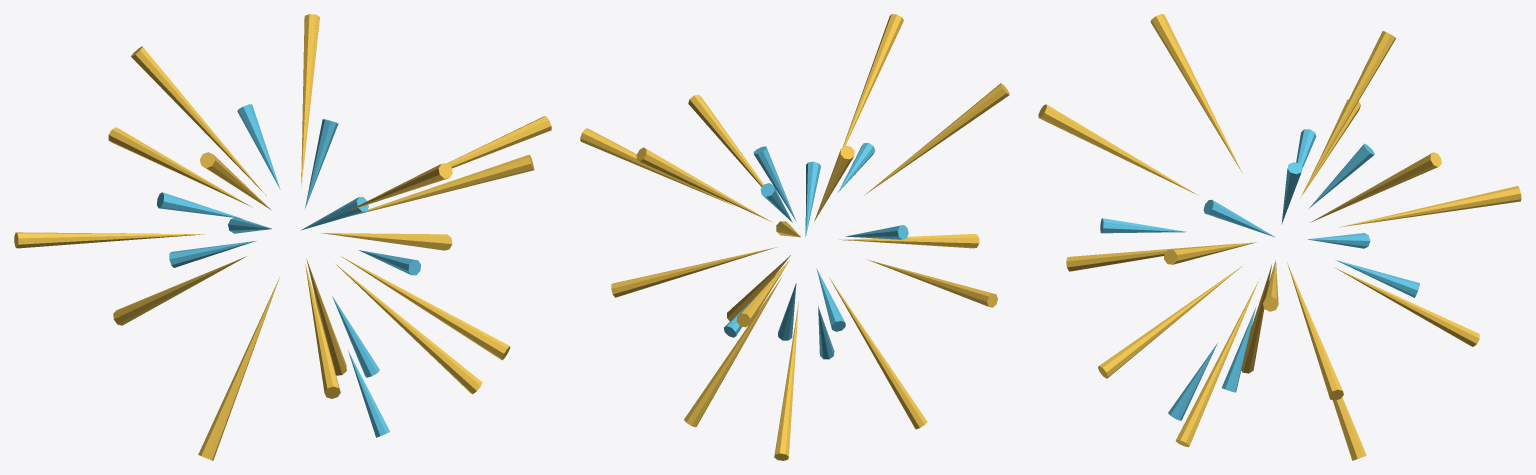
3 views of the same model, side by side, from view 1: azimuth 30°, elevation 25°; view 2: azimuth 150°, elevation 25°; view 3: azimuth 270°, elevation 25° (orthographic). The views are drawn at different scales.
Visible parts, largest first — view 1: 円錐004, 円錐004_1; view 2: 円錐004, 円錐004_1; view 3: 円錐004, 円錐004_1.
Boxes of the visible parts, x1,y1,x2,y2 form: 円錐004: [14, 14, 551, 460]; 円錐004_1: [157, 104, 420, 437]; 円錐004: [580, 14, 1009, 460]; 円錐004_1: [724, 142, 908, 359]; 円錐004: [1038, 14, 1521, 460]; 円錐004_1: [1100, 129, 1419, 420].
Bounding box in the file's own units: 12.11 × 8.5 × 10.78.
